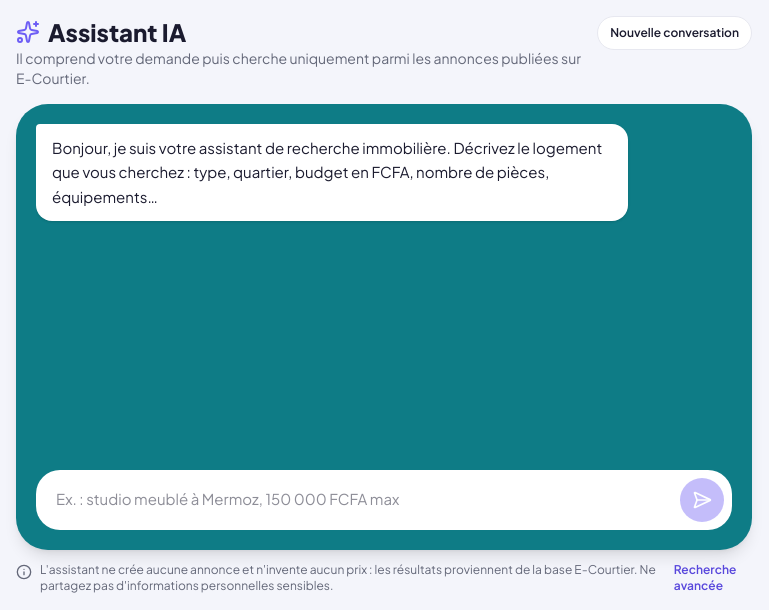
Assistant — résultats réels › une panne de recherche n'est jamais affichée comme une absence d'annonces
Type "donne-moi les apparts du site web" into the text box named "Votre message" at (358, 500), box [44,478,672,522]
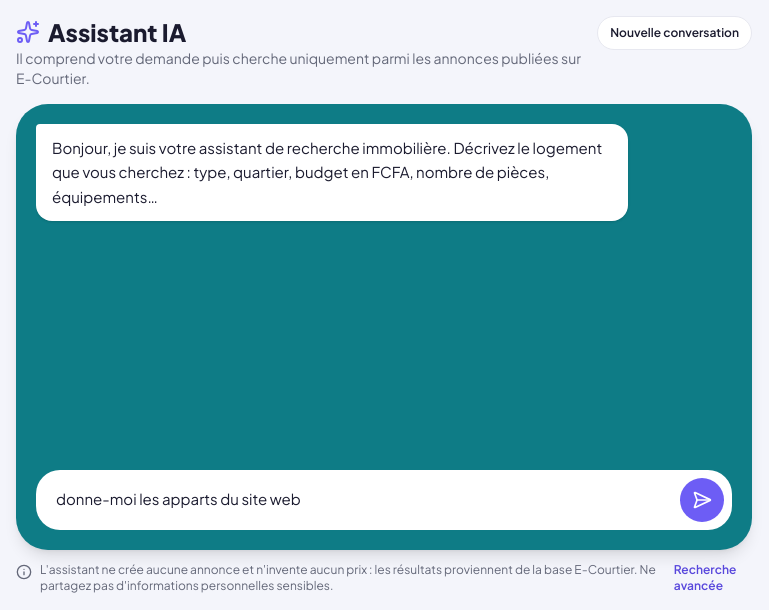
Click the button named "Envoyer" at (702, 500), box [680,478,724,522]
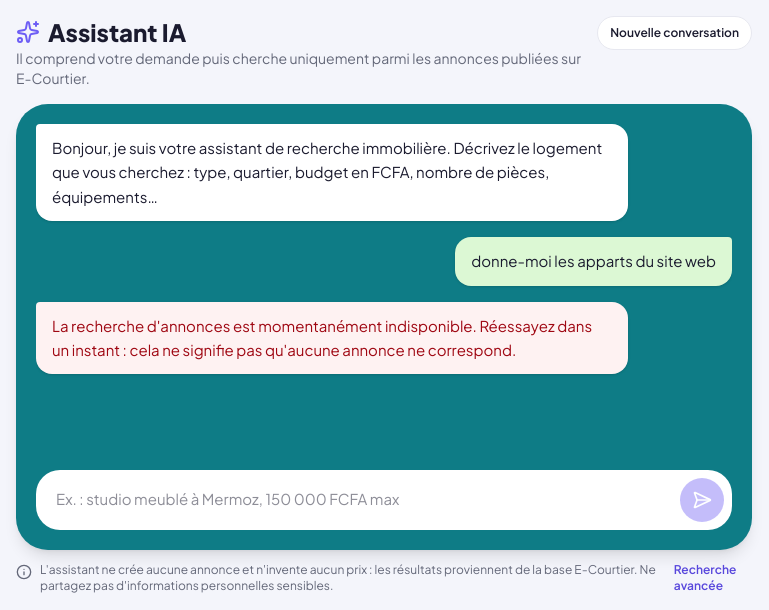
Expected: the text "cela ne signifie pas qu'aucune annonce ne correspond" is shown, [52,316,592,359]
